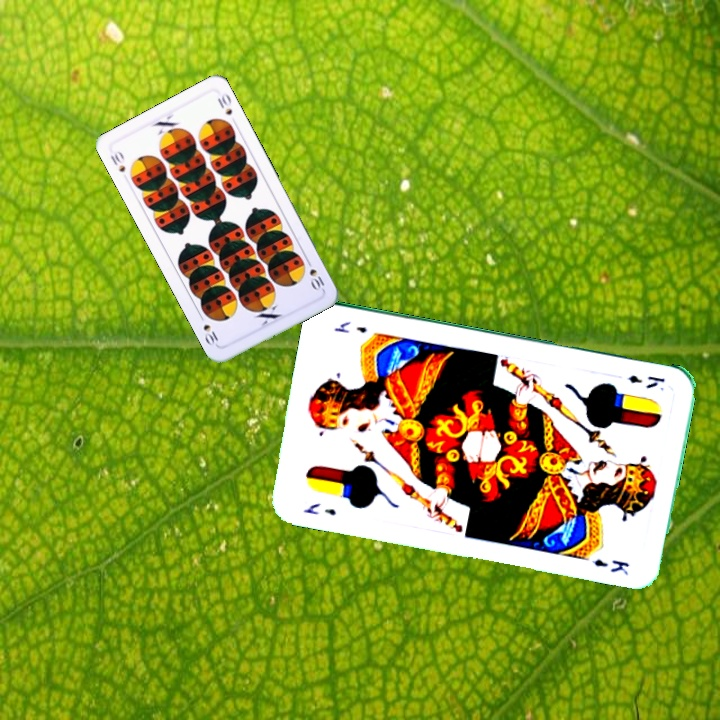EK: (624, 371, 668, 391), (300, 499, 339, 518)
S10: (302, 255, 327, 294), (106, 147, 128, 175)
